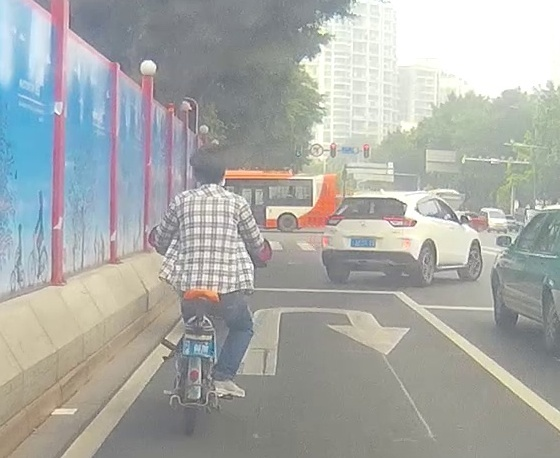L_light: (325, 215, 344, 225)
R_light: (383, 216, 416, 227)
T_light: (363, 198, 376, 201)
day-right: (321, 194, 418, 285)
